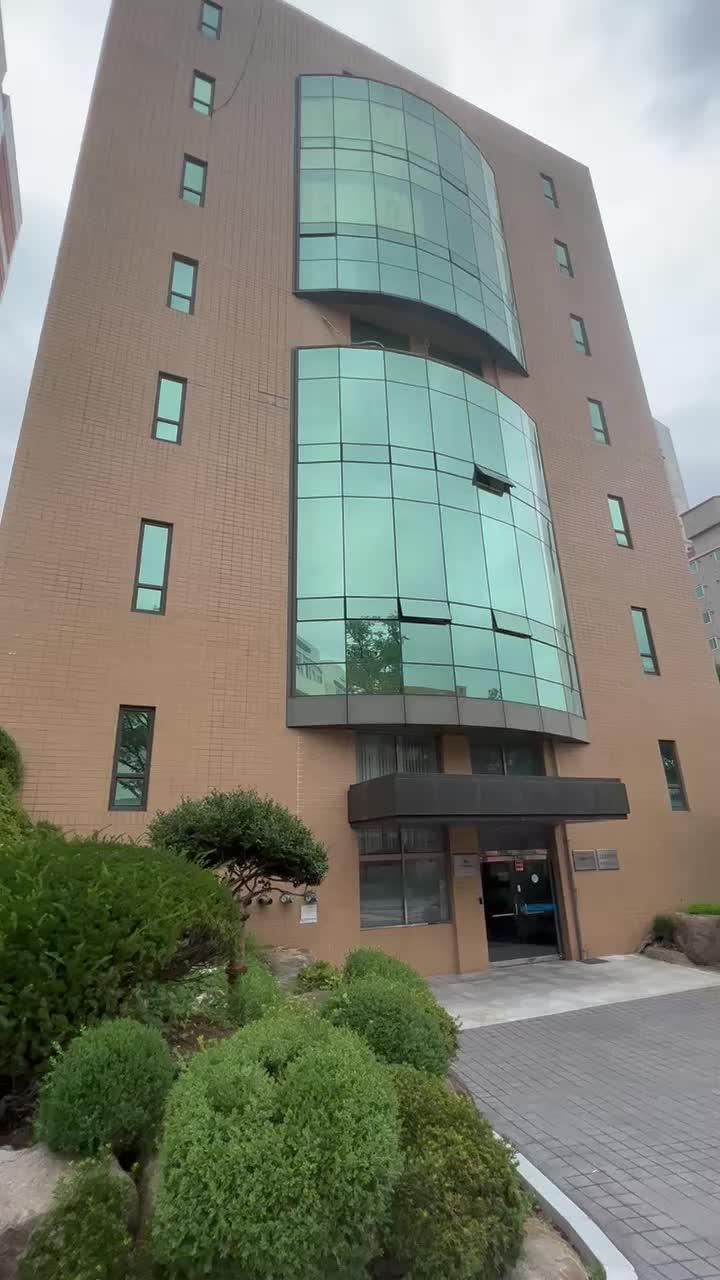building: (48, 42, 678, 858)
